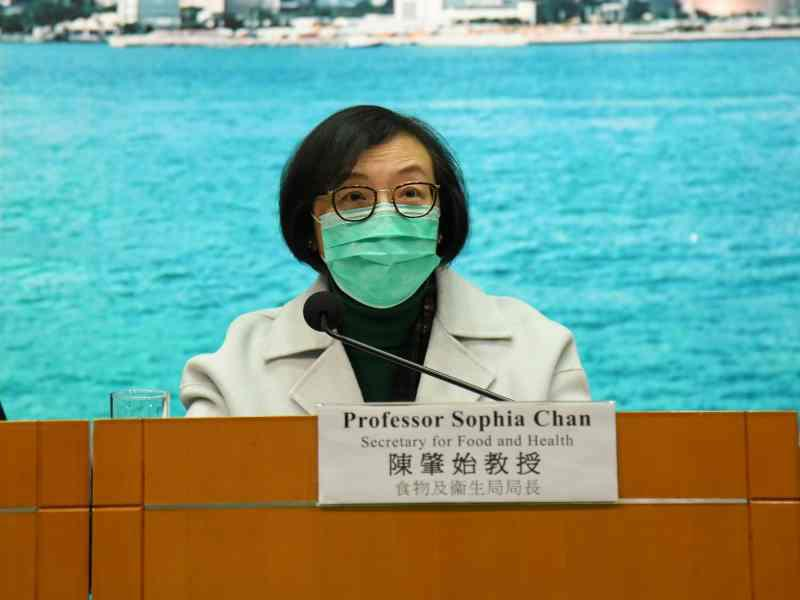mask: (312, 159, 443, 310)
